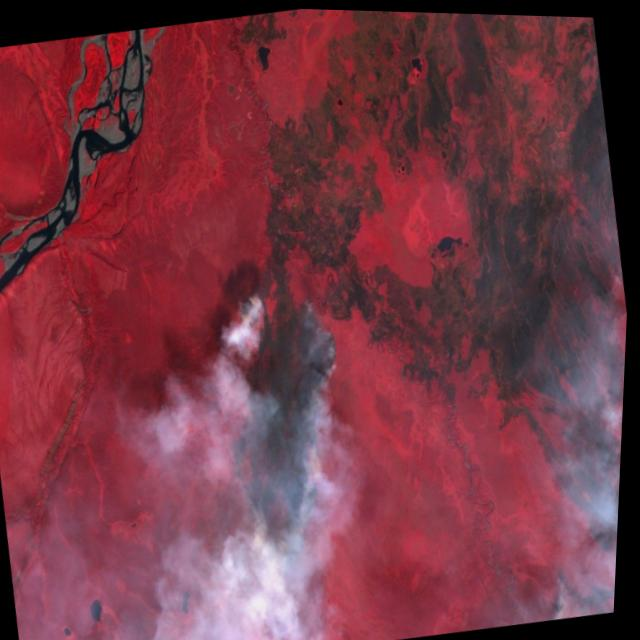fire: (198, 271, 381, 576), (505, 306, 630, 619)
